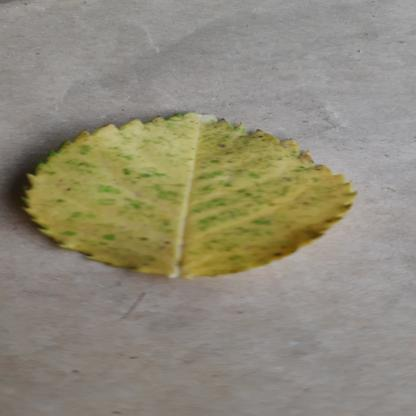black-spot: (31, 110, 368, 282)
